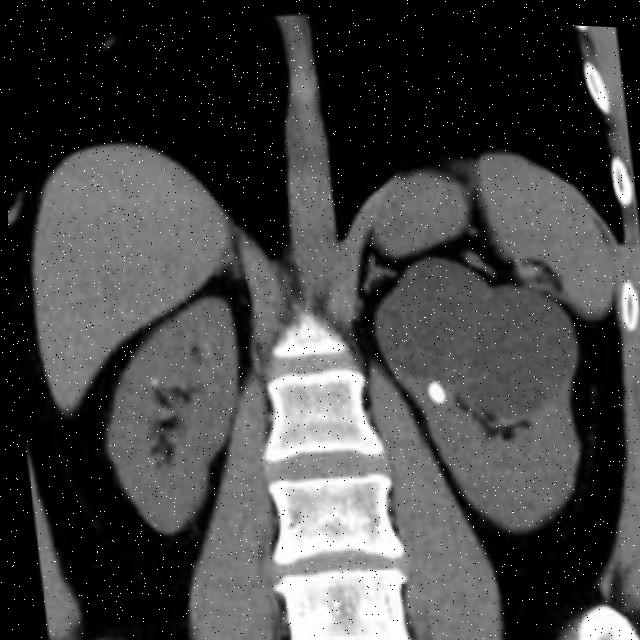Tas_Var: (420, 371, 446, 405), (142, 373, 162, 388)
